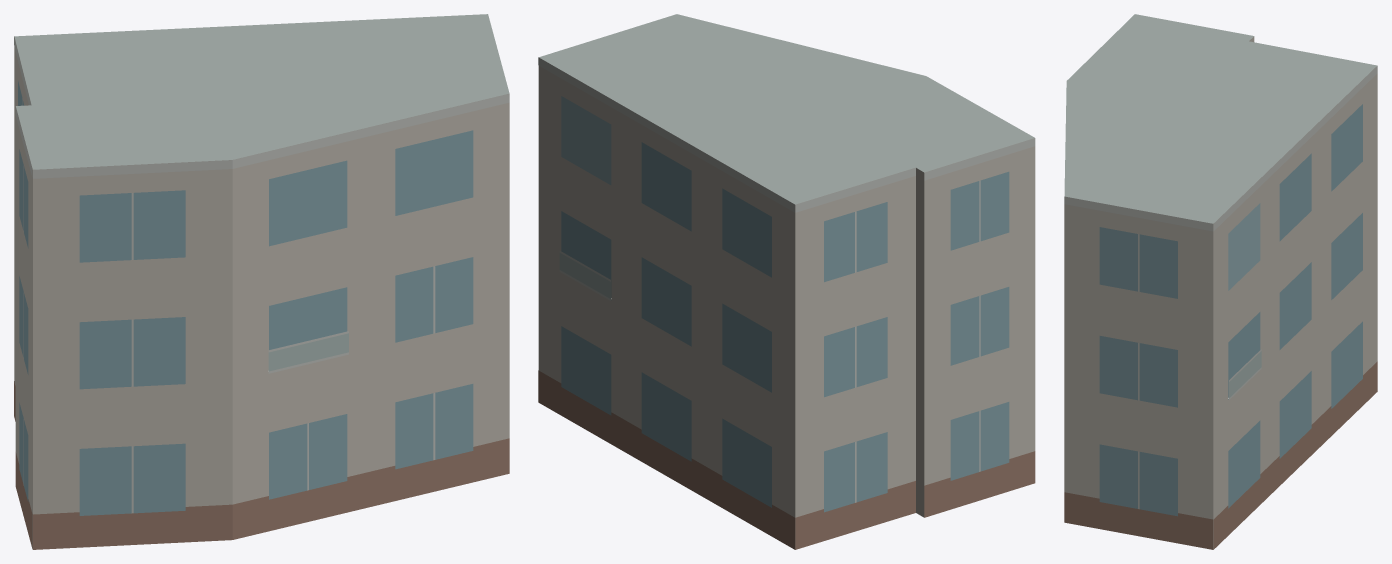
File: survey-upis-32477164.glb
3 views of the same model, side by side, from view 1: azimuth 30°, elevation 25°; view 2: azimuth 150°, elevation 25°; view 3: azimuth 270°, elevation 25° (orthographic). The views are drawn at different scales.
Visible parts, largest first — view 1: survey-upis-32477164.tmp; view 2: survey-upis-32477164.tmp; view 3: survey-upis-32477164.tmp.
Part boxes in pixels (x1,y1,x2,y2): survey-upis-32477164.tmp: (14, 14, 509, 549); survey-upis-32477164.tmp: (538, 14, 1035, 549); survey-upis-32477164.tmp: (1064, 14, 1377, 549).
Bounding box in the file's own units: 14.15 × 10.25 × 8.93.
